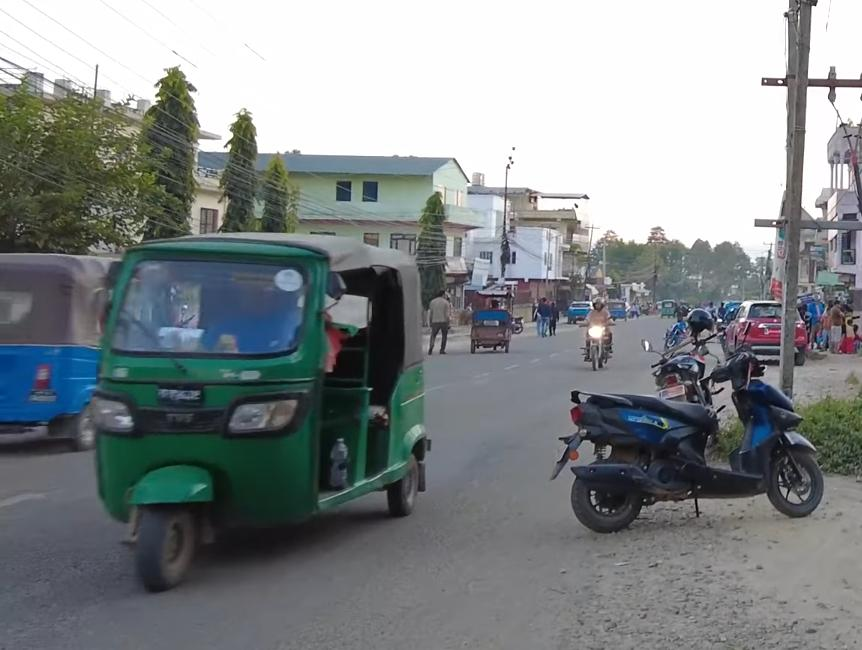auto_rickshaw: (77, 223, 437, 602), (0, 247, 110, 449)
bike: (575, 314, 617, 374)
scooter: (553, 337, 828, 537)
